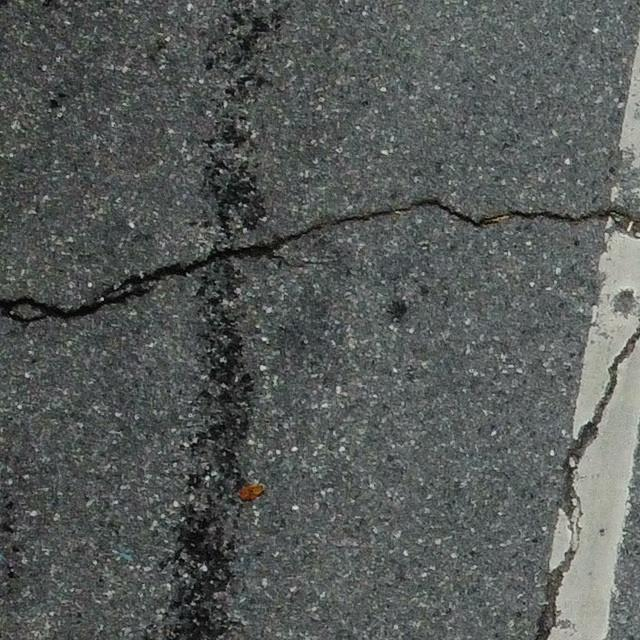LongitudinalCrack: (538, 327, 639, 640)
TransverseCrack: (1, 197, 640, 325)
